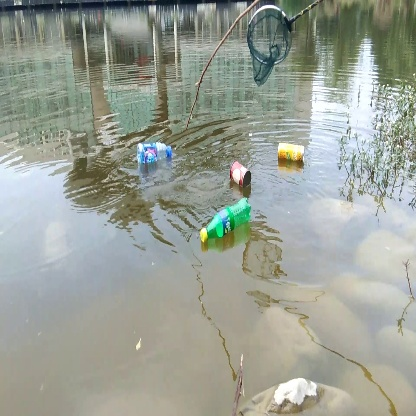bottle: (200, 198, 255, 244), (275, 137, 311, 168), (137, 139, 176, 167), (225, 159, 255, 191)
